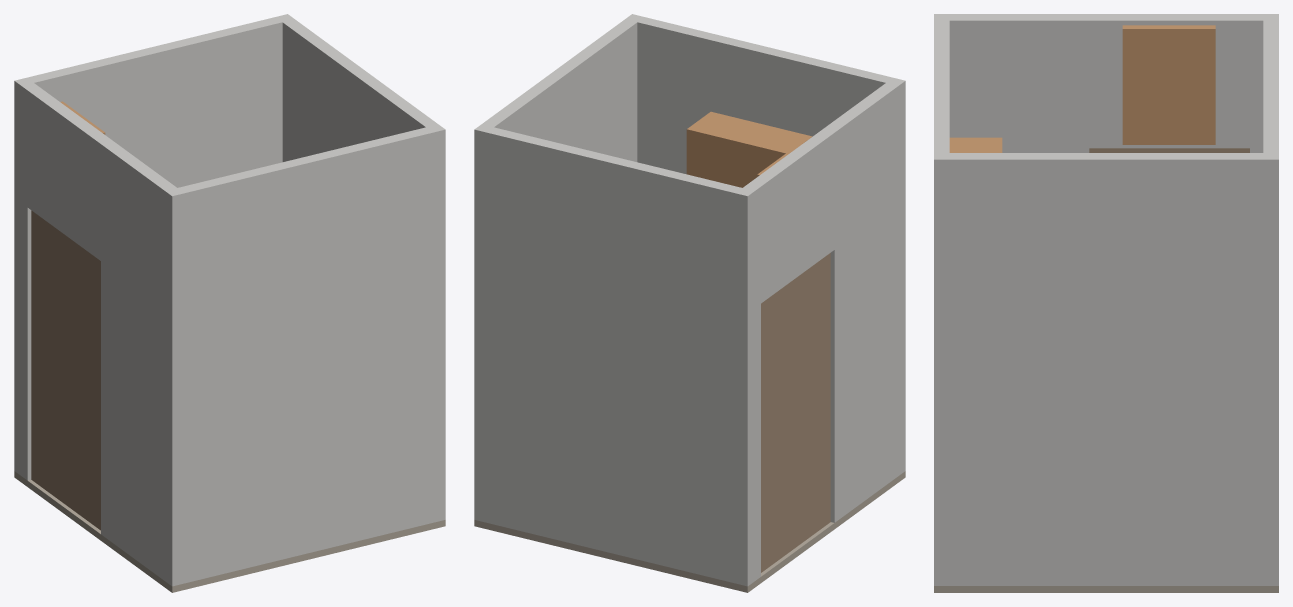
Rendered from room_129.glb.
3 renders of one model, left to right at view 1: azimuth 30°, elevation 25°; view 2: azimuth 150°, elevation 25°; view 3: azimuth 270°, elevation 25°, orthographic. The views are drawn at different scales.
Parts seen in each view (by area): view 1: shell_wall_0_s0, shell_wall_3_s2, shell_wall_2_s0, shell_wall_3_door, shell_wall_1_s0, shell_wall_3_s1, shell_wall_3_s0, shell_floor; view 2: shell_wall_2_s0, shell_wall_3_s2, shell_wall_0_s0, shell_wall_3_door, shell_wall_1_s0, shell_wall_3_s1, shell_wall_3_s0, obj_000, shell_floor; view 3: shell_wall_1_s0, shell_wall_3_s2, obj_003, shell_wall_3_s1, shell_wall_0_s0, shell_wall_2_s0, shell_floor, shell_wall_3_s0, obj_000, shell_wall_3_door.
Part boxes in pixels (bbox=[...]): shell_wall_0_s0: bbox=[165, 124, 445, 586]; shell_wall_3_s2: bbox=[101, 141, 184, 585]; shell_wall_2_s0: bbox=[14, 15, 294, 475]; shell_wall_3_door: bbox=[31, 210, 100, 530]; shell_wall_1_s0: bbox=[276, 14, 445, 522]; shell_wall_3_s1: bbox=[27, 87, 112, 260]; shell_wall_3_s0: bbox=[14, 77, 39, 480]; shell_floor: bbox=[14, 471, 445, 592]; shell_wall_2_s0: bbox=[474, 125, 754, 586]; shell_wall_3_s2: bbox=[822, 77, 905, 522]; shell_wall_0_s0: bbox=[625, 14, 905, 475]; shell_wall_3_door: bbox=[761, 253, 830, 572]; shell_wall_1_s0: bbox=[474, 14, 643, 522]; shell_wall_3_s1: bbox=[749, 129, 834, 303]; shell_wall_3_s0: bbox=[735, 183, 760, 585]; obj_000: bbox=[686, 111, 812, 187]; shell_floor: bbox=[474, 471, 905, 592]; shell_wall_1_s0: bbox=[934, 153, 1278, 585]; shell_wall_3_s2: bbox=[934, 14, 1089, 152]; obj_003: bbox=[1122, 25, 1215, 144]; shell_wall_3_s1: bbox=[1089, 14, 1249, 148]; shell_wall_0_s0: bbox=[934, 14, 949, 585]; shell_wall_2_s0: bbox=[1263, 14, 1278, 585]; shell_floor: bbox=[934, 586, 1278, 592]; shell_wall_3_s0: bbox=[1250, 14, 1278, 152]; obj_000: bbox=[949, 137, 1002, 152]; shell_wall_3_door: bbox=[1089, 148, 1249, 152].
Size of the model in its own units: 2.2 by 3.05 by 2.2.
